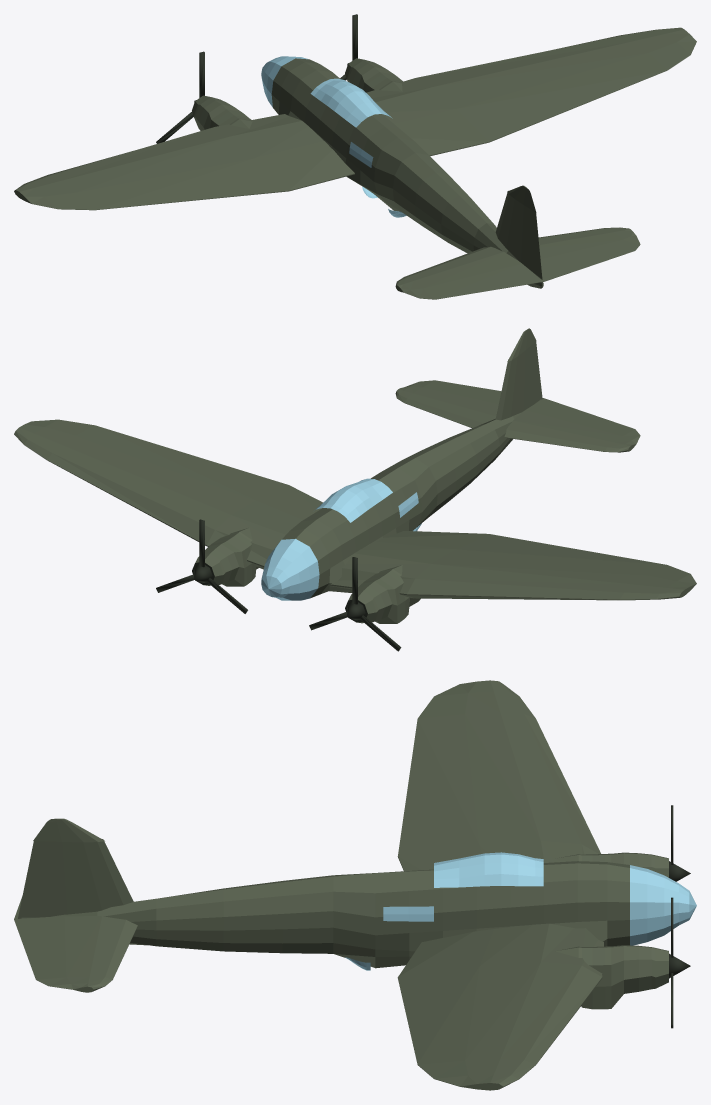
3 views of the same model, one above another, from view 1: azimuth 30°, elevation 25°; view 2: azimuth 150°, elevation 25°; view 3: azimuth 270°, elevation 25° (orthographic). The views are drawn at different scales.
Parts seen in each view (by area): view 1: HE111_Wing, HE111_Fuselage, HE111_Tailplane, HE111_Fin, HE111_Canopy, HE111_NacL, HE111_NacR; view 2: HE111_Wing, HE111_Fuselage, HE111_Tailplane, HE111_NacL, HE111_NacR, HE111_Fin, HE111_Canopy; view 3: HE111_Wing, HE111_Fuselage, HE111_Tailplane, HE111_Fin, HE111_NacR, HE111_Canopy, HE111_NacL, HE111_FinTip.
Part boxes in pixels (box(x1,y1,x2,y2)): HE111_Wing: box(14, 27, 696, 210); HE111_Fuselage: box(261, 56, 543, 288); HE111_Tailplane: box(395, 227, 640, 299); HE111_Fin: box(495, 190, 542, 279); HE111_Canopy: box(310, 78, 392, 167); HE111_NacL: box(192, 95, 252, 130); HE111_NacR: box(345, 58, 402, 92); HE111_Wing: box(14, 419, 696, 600); HE111_Fuselage: box(261, 399, 541, 600); HE111_Tailplane: box(395, 380, 640, 452); HE111_NacL: box(345, 565, 420, 623); HE111_NacR: box(192, 528, 258, 586); HE111_Fin: box(495, 341, 542, 420); HE111_Canopy: box(314, 478, 418, 522); HE111_Wing: box(397, 680, 603, 1090); HE111_Fuselage: box(20, 861, 696, 968); HE111_Tailplane: box(14, 896, 137, 992); HE111_Fin: box(18, 839, 133, 918); HE111_NacR: box(555, 945, 668, 1009); HE111_Canopy: box(383, 852, 543, 921); HE111_NacL: box(555, 852, 668, 877); HE111_FinTip: box(33, 818, 104, 842).
Bounding box in the file's own units: 22.6 × 3.92 × 16.21.
